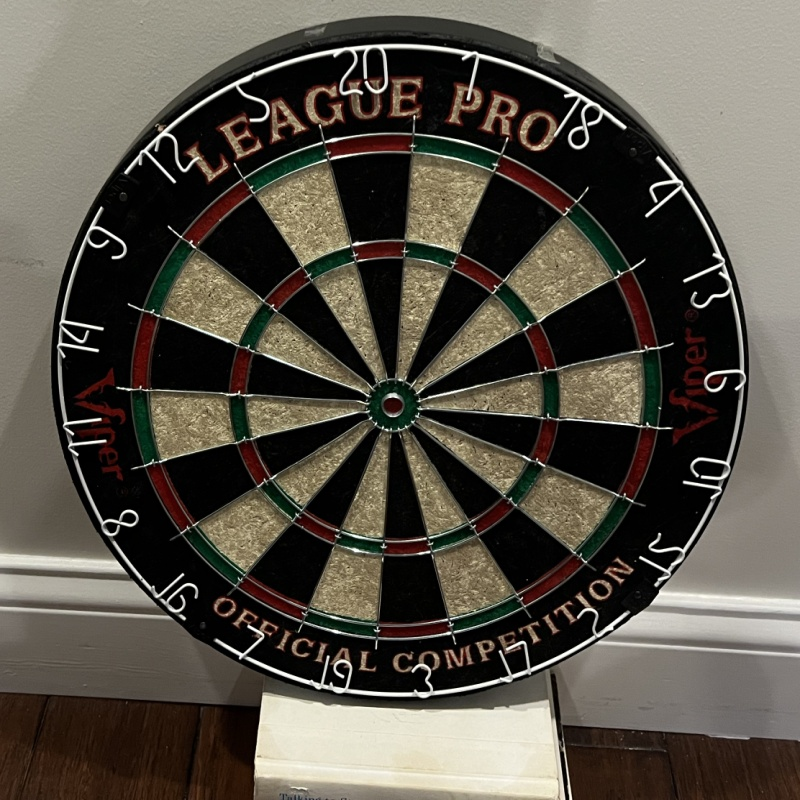eleven: (57, 417, 111, 458)
six: (705, 370, 748, 394)
three: (411, 662, 442, 702)
twenty: (327, 45, 393, 96)
